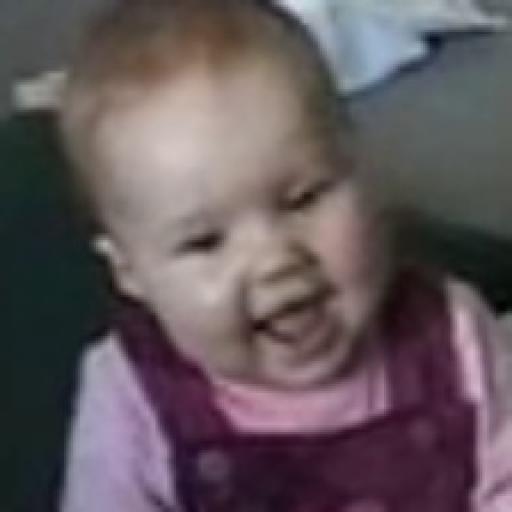Autism: (38, 4, 431, 466)
